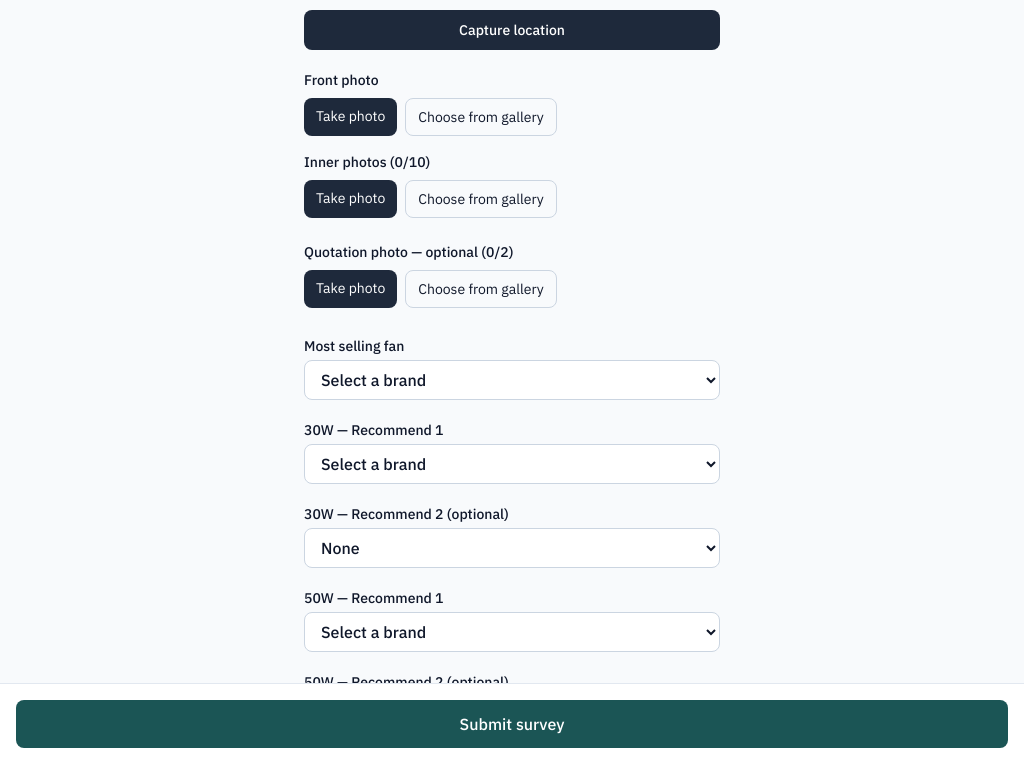
SurveyForm validation › requires a typed name when a brand is set to Other
(page scrolled)
Select "Other…" in the dropdown labelled "Most selling fan": coordinates (512, 380) [304, 360, 720, 400]
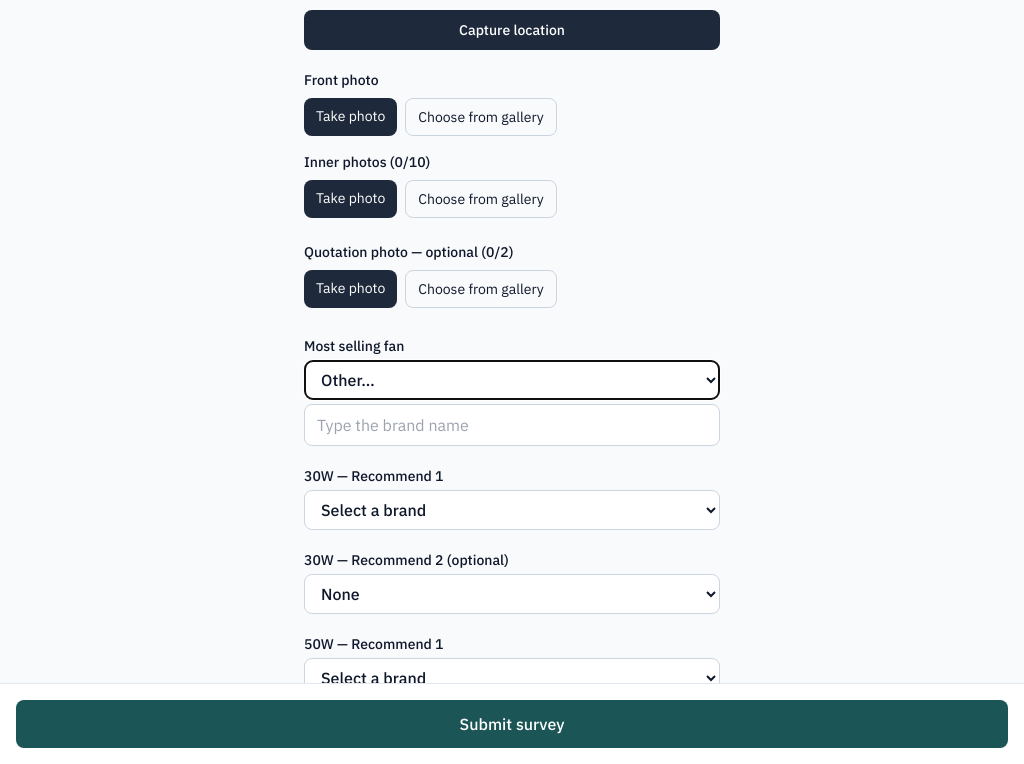
Click the button "Submit survey": coordinates (512, 724) [16, 700, 1008, 748]
(page scrolled)
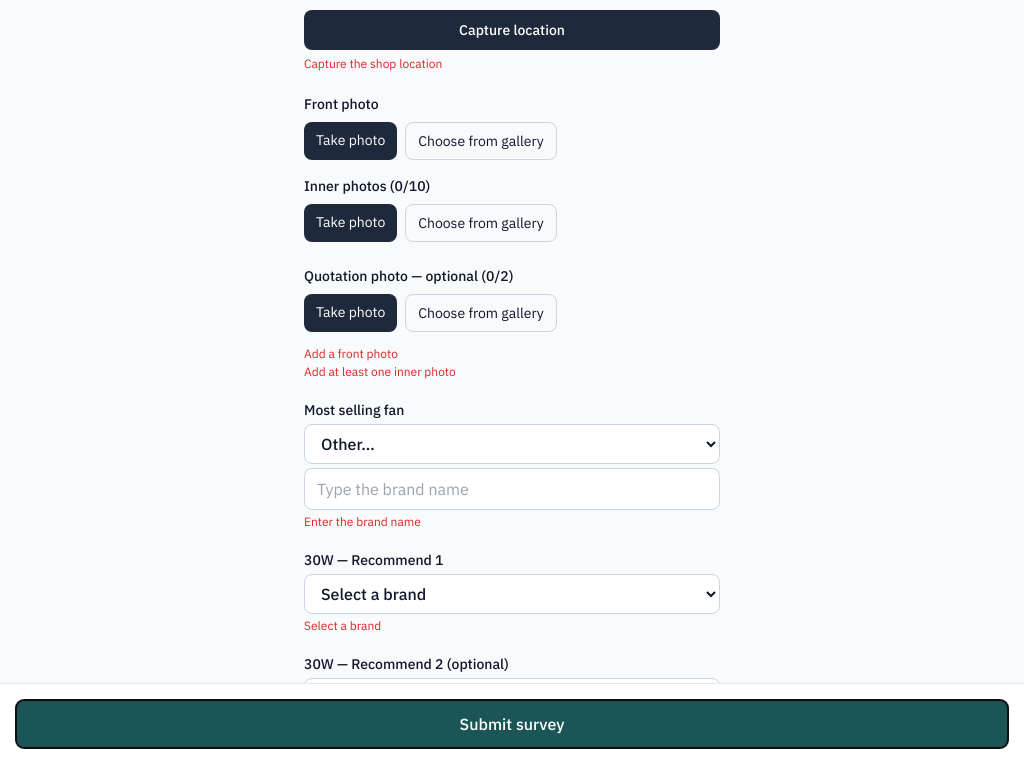
Check: the text "Enter the brand name" is shown, box [304, 514, 421, 529]
